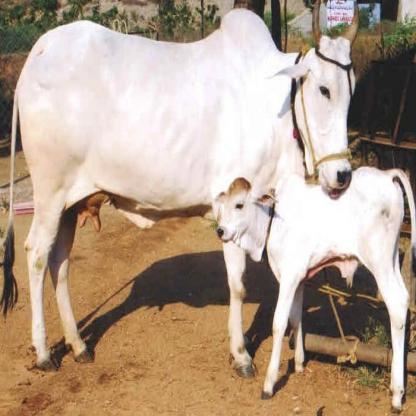cow: (19, 22, 352, 379), (217, 178, 405, 410)
